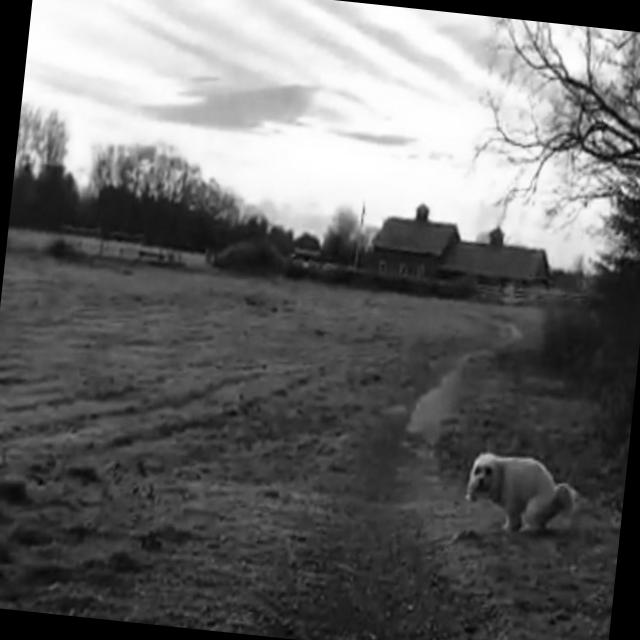squatting: (454, 438, 582, 550)
